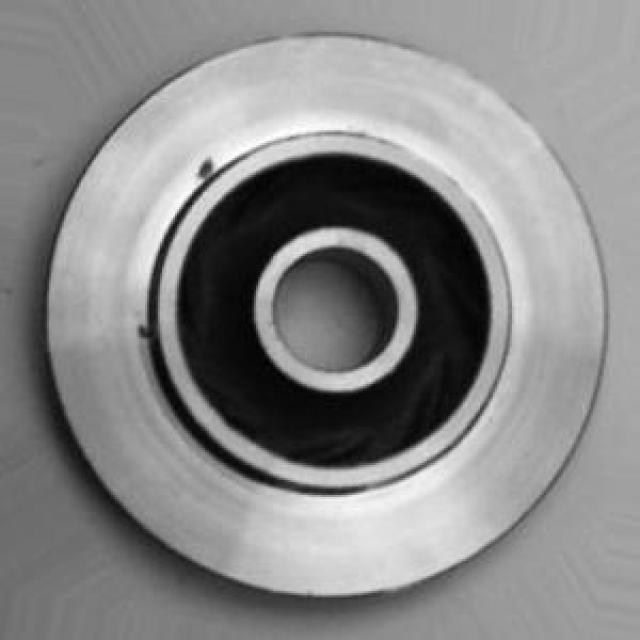Defect: (190, 150, 228, 188)
